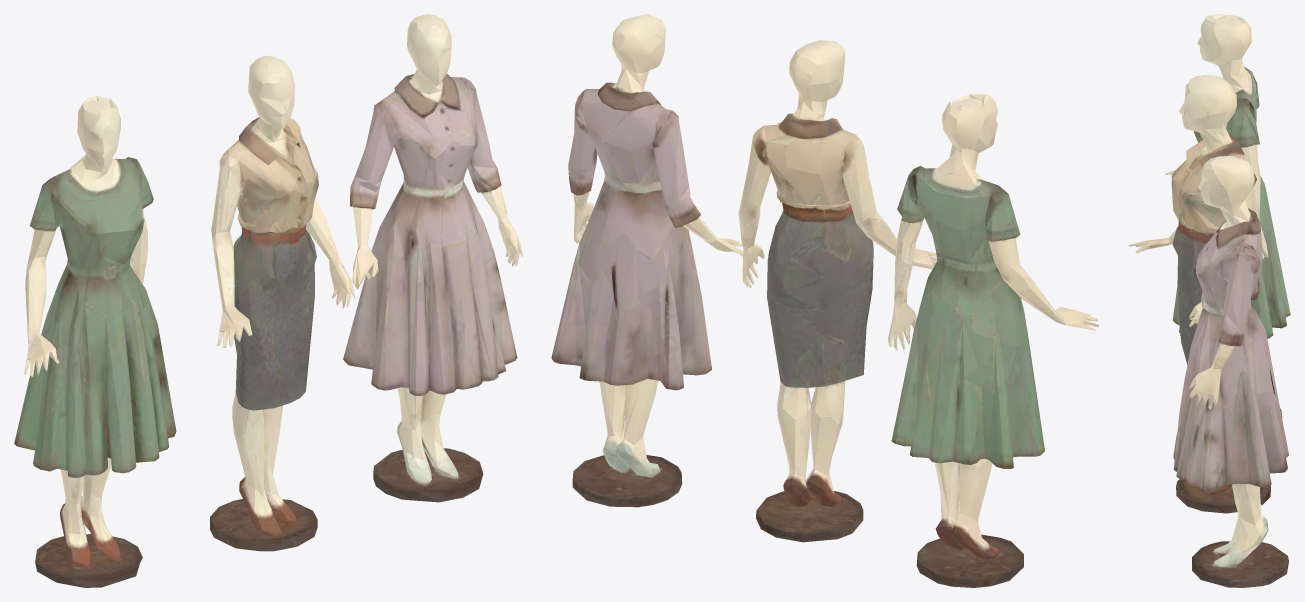
File: mannequins.glb
3 views of the same model, side by side, from view 1: azimuth 30°, elevation 25°; view 2: azimuth 150°, elevation 25°; view 3: azimuth 270°, elevation 25° (orthographic). The views are drawn at different scales.
Visible parts, largest first — view 1: Mesh_0; view 2: Mesh_0; view 3: Mesh_0.
Part boxes in pixels (x1,y1,x2,y2): Mesh_0: [14, 14, 522, 587]; Mesh_0: [551, 14, 1098, 587]; Mesh_0: [1128, 14, 1290, 587].
Size of the model in its own units: 1.9 by 1.7 by 0.6009.
Materials: 1 (1 with a texture image).
